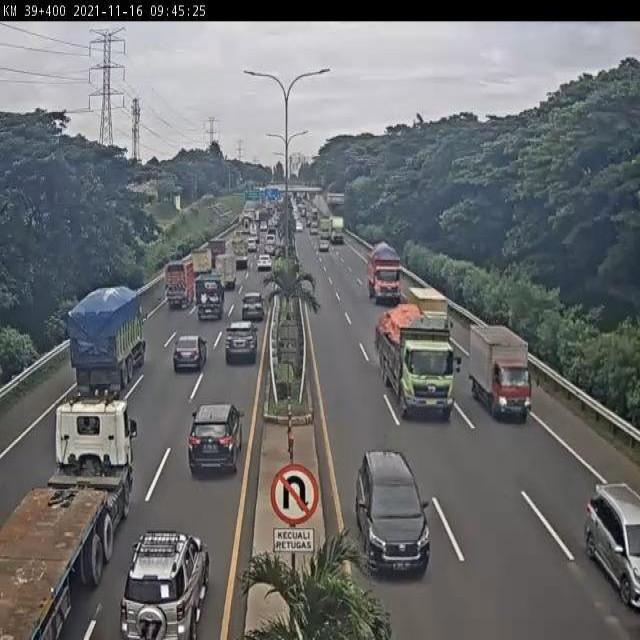car: (357, 448, 432, 576), (121, 532, 207, 640), (587, 477, 640, 611), (188, 404, 243, 481), (171, 333, 207, 375), (225, 320, 258, 364), (242, 292, 264, 320)
small truck: (467, 318, 537, 422)
truck-l-: (370, 301, 459, 424), (72, 287, 151, 392)
truck-m-: (367, 241, 403, 303), (166, 258, 194, 306), (198, 272, 225, 320)
truck-xl-: (0, 397, 139, 640)
